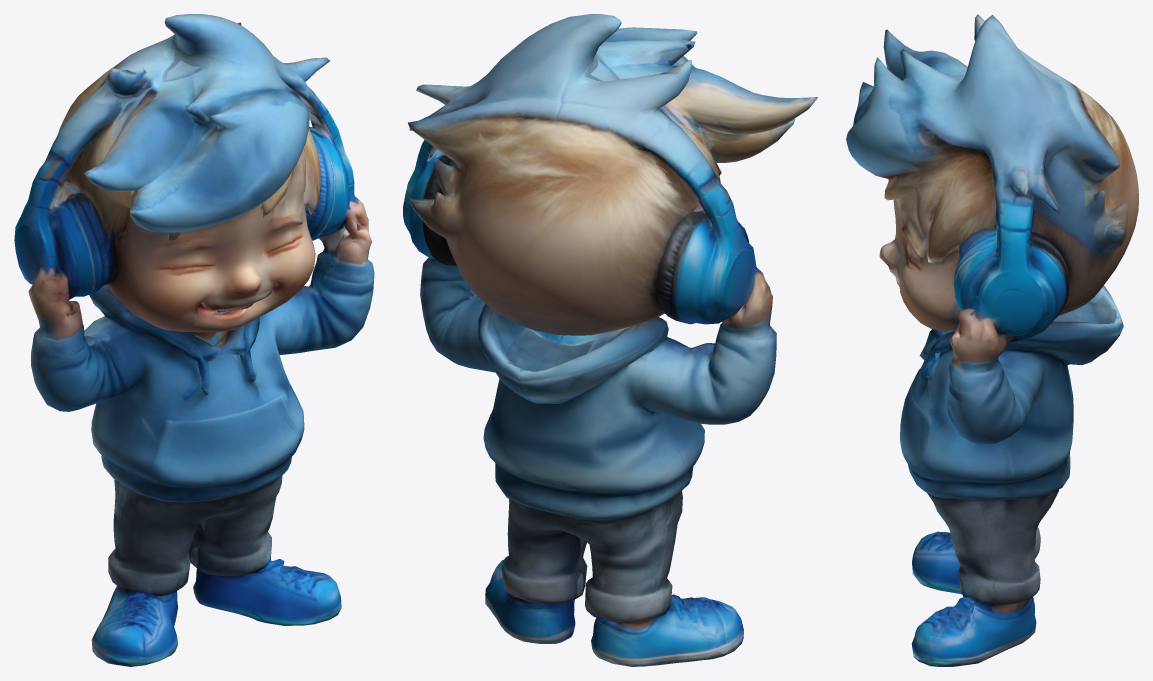
Rendered from boy.glb.
3 views of the same model, side by side, from view 1: azimuth 30°, elevation 25°; view 2: azimuth 150°, elevation 25°; view 3: azimuth 270°, elevation 25° (orthographic). The views are drawn at different scales.
Size of the model in its own units: 1.16 by 2 by 0.9091.
1 material, 1 textured.
